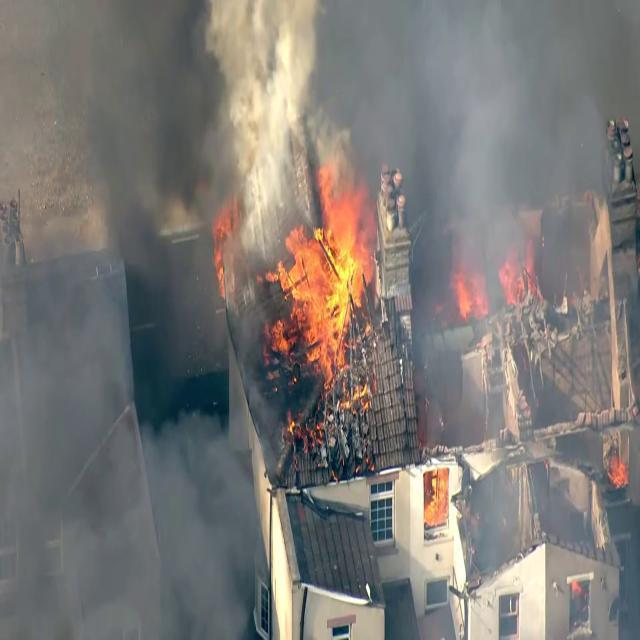Fire: (275, 164, 373, 349), (452, 224, 555, 311)
Smoke: (167, 0, 311, 145)
